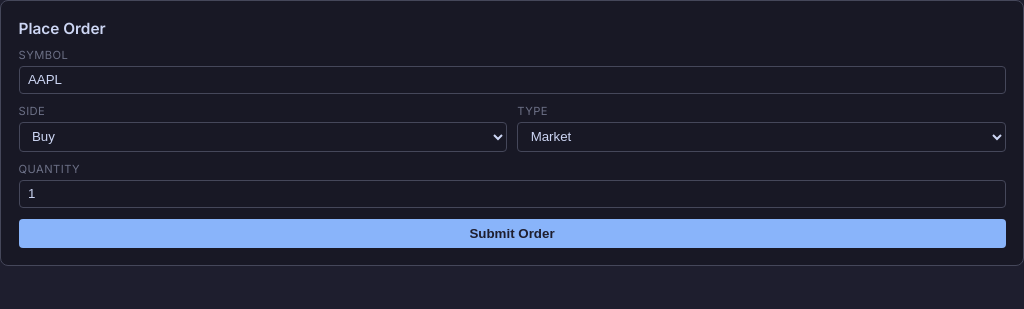
Test case: OrderFormComponent › shows error message when placeOrder fails
The width and height of the screenshot is (1024, 309).
Click the submit button at (512, 233), box [18,219,1006,248]
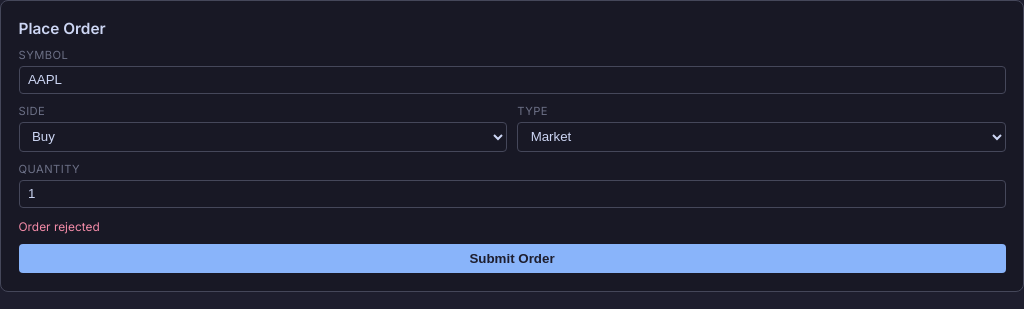
expect the text with class "form-error" reads "Order rejected": met, box [18,219,100,234]
